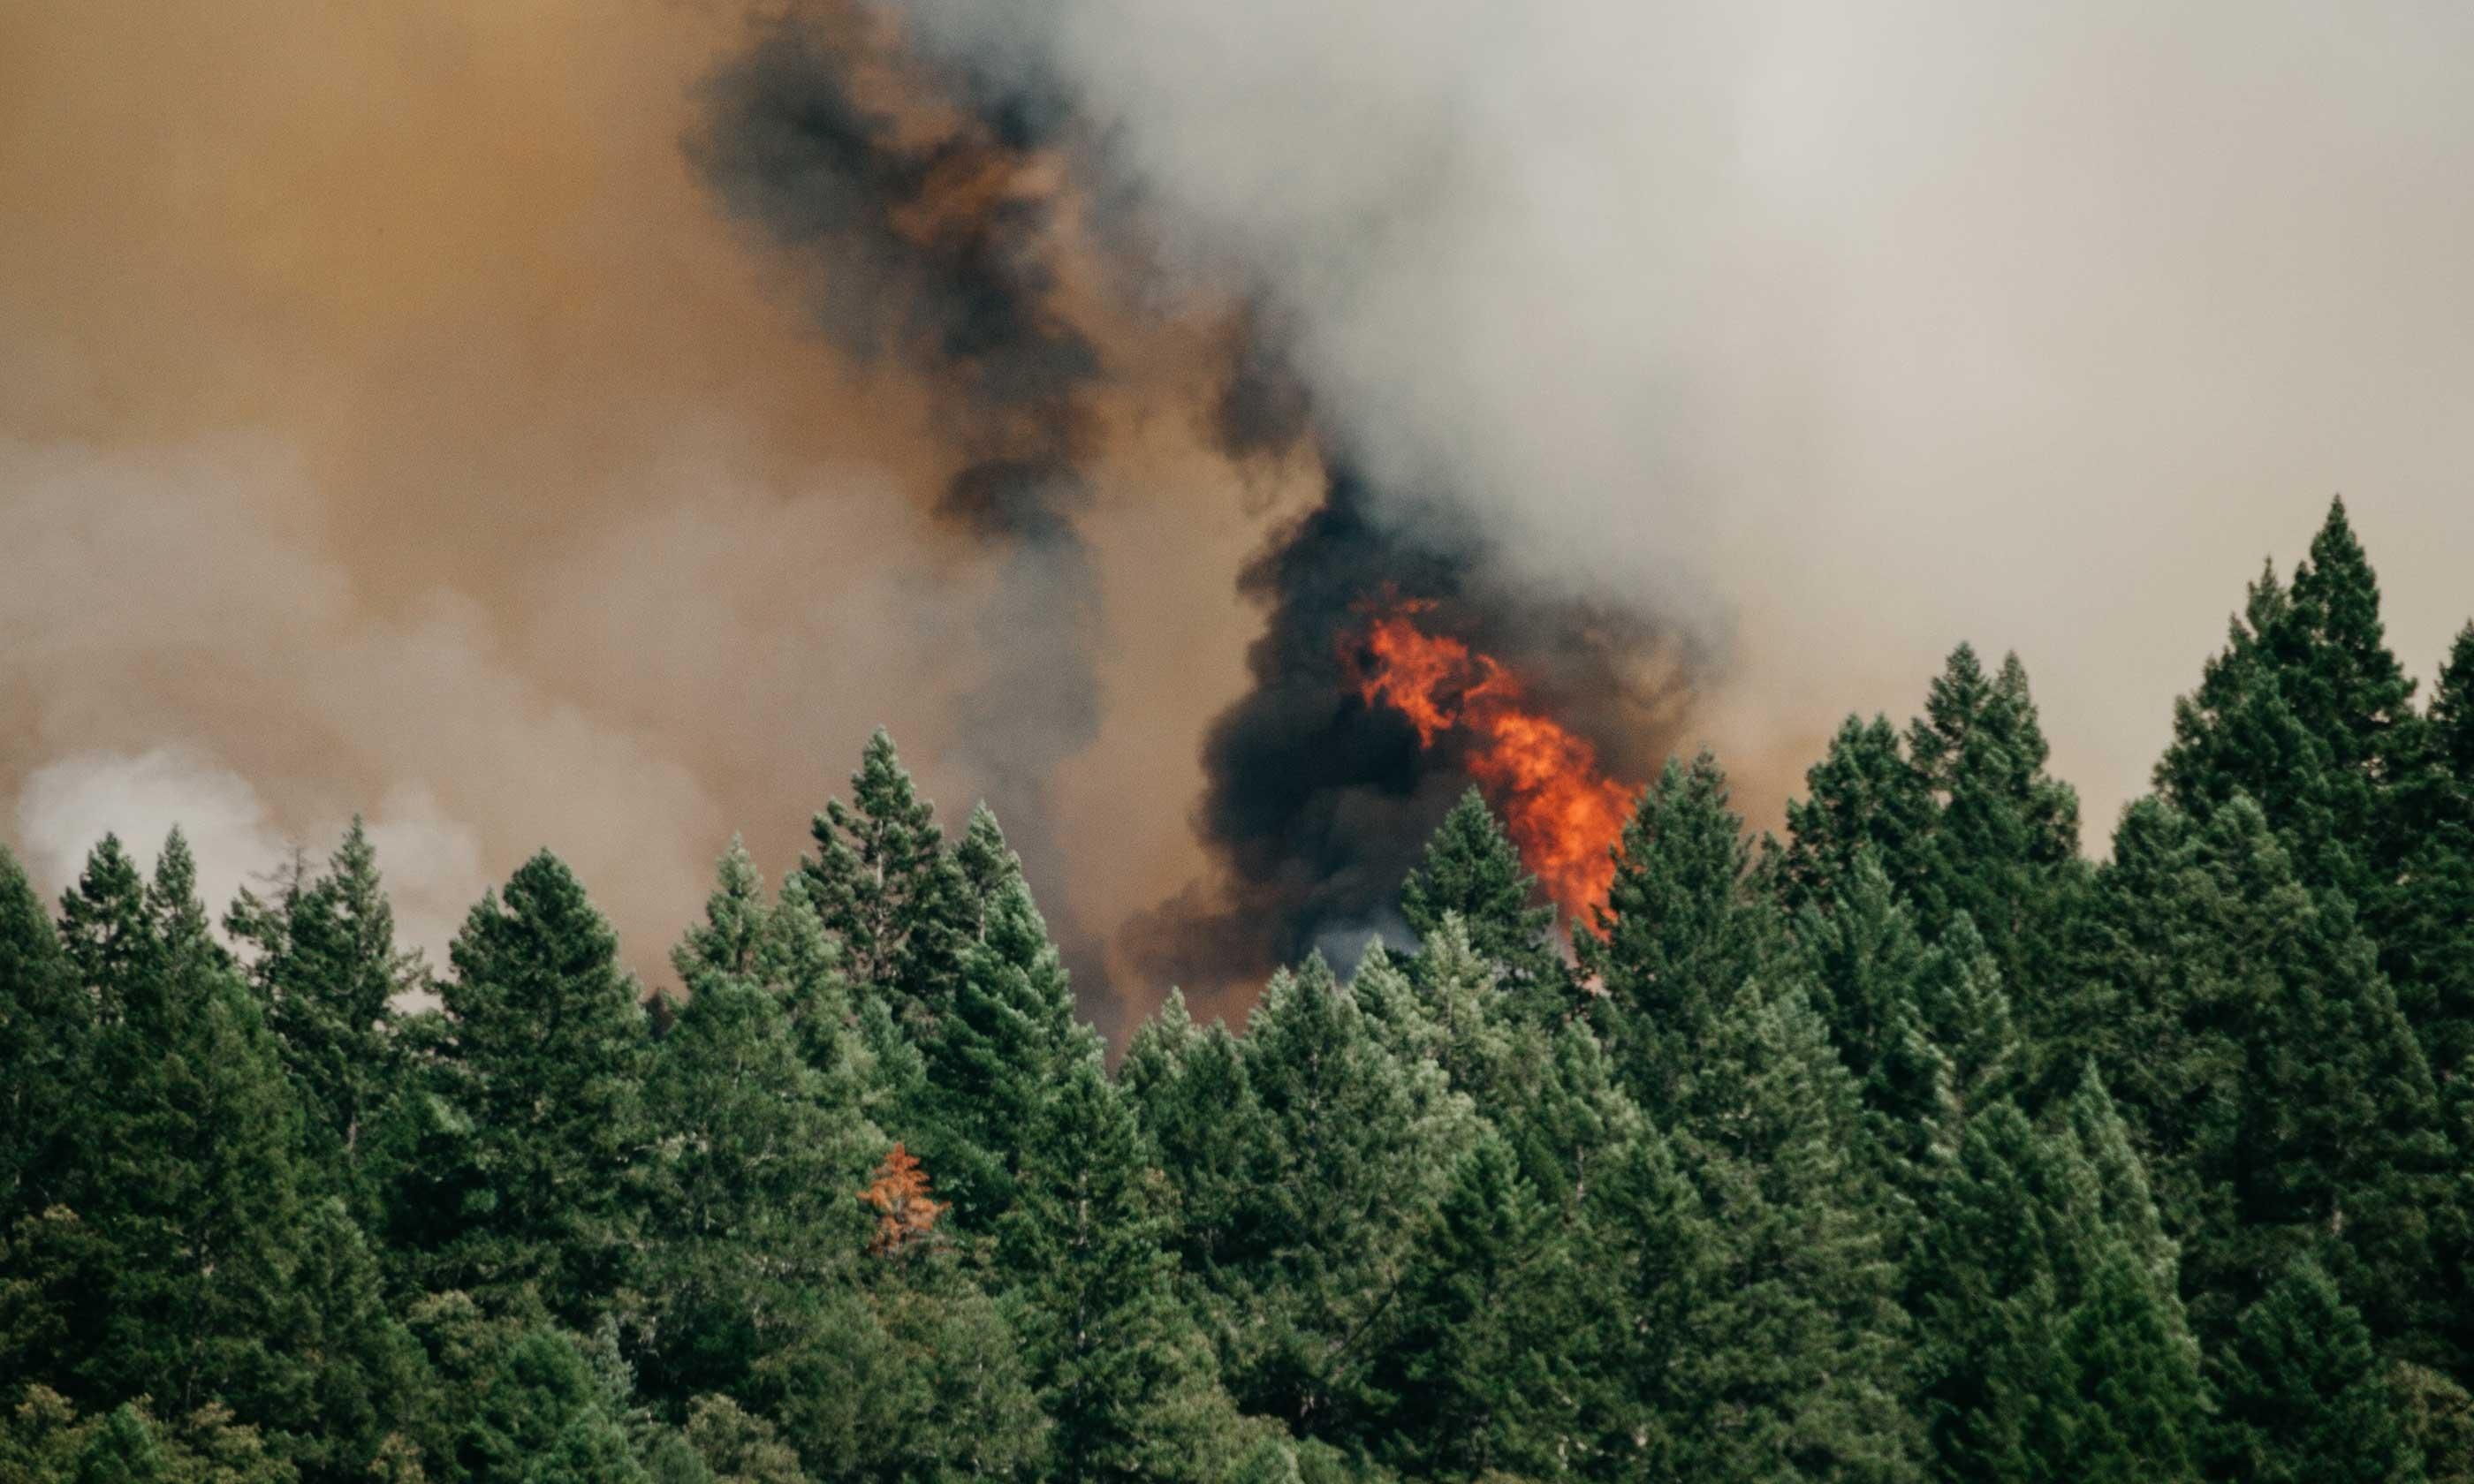smoke: (721, 5, 1760, 968)
